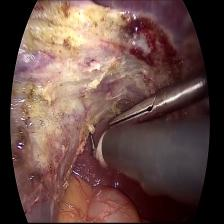Grasper: (103, 73, 198, 133)
Hook: (83, 127, 107, 174)
